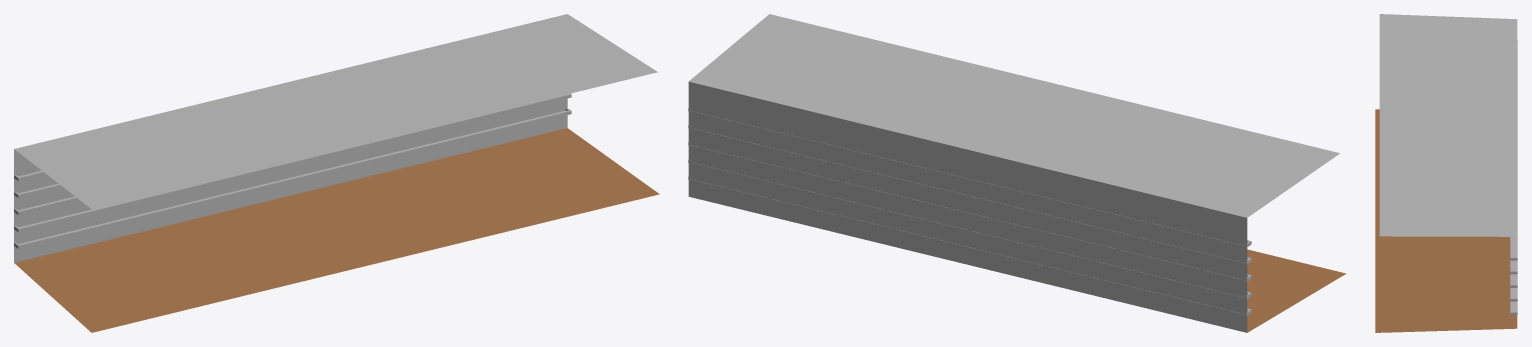
The model's file is HallWay.fbx.
3 views of the same model, side by side, from view 1: azimuth 30°, elevation 25°; view 2: azimuth 150°, elevation 25°; view 3: azimuth 270°, elevation 25° (orthographic). The views are drawn at different scales.
Parts seen in each view (by area): view 1: 평면.002; view 2: 평면.002; view 3: 평면.002.
Part boxes in pixels (x1,y1,x2,y2): 평면.002: [14, 14, 659, 332]; 평면.002: [688, 14, 1345, 332]; 평면.002: [1375, 14, 1517, 332].
Bounding box in the file's own units: 11611 × 2342 × 3115.
